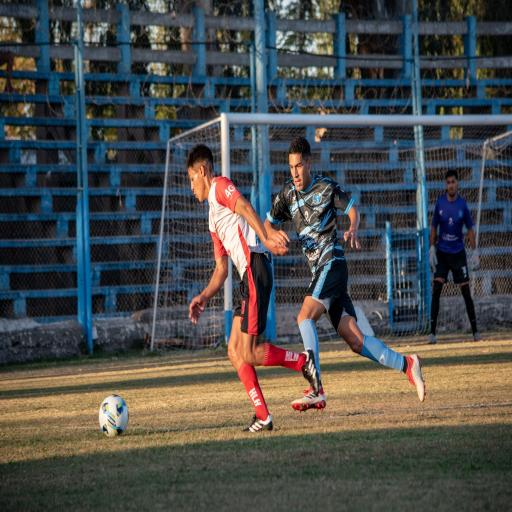shoe: (292, 385, 326, 412), (407, 355, 425, 402), (302, 350, 320, 396), (243, 415, 272, 432), (428, 334, 436, 344), (474, 332, 482, 341)
